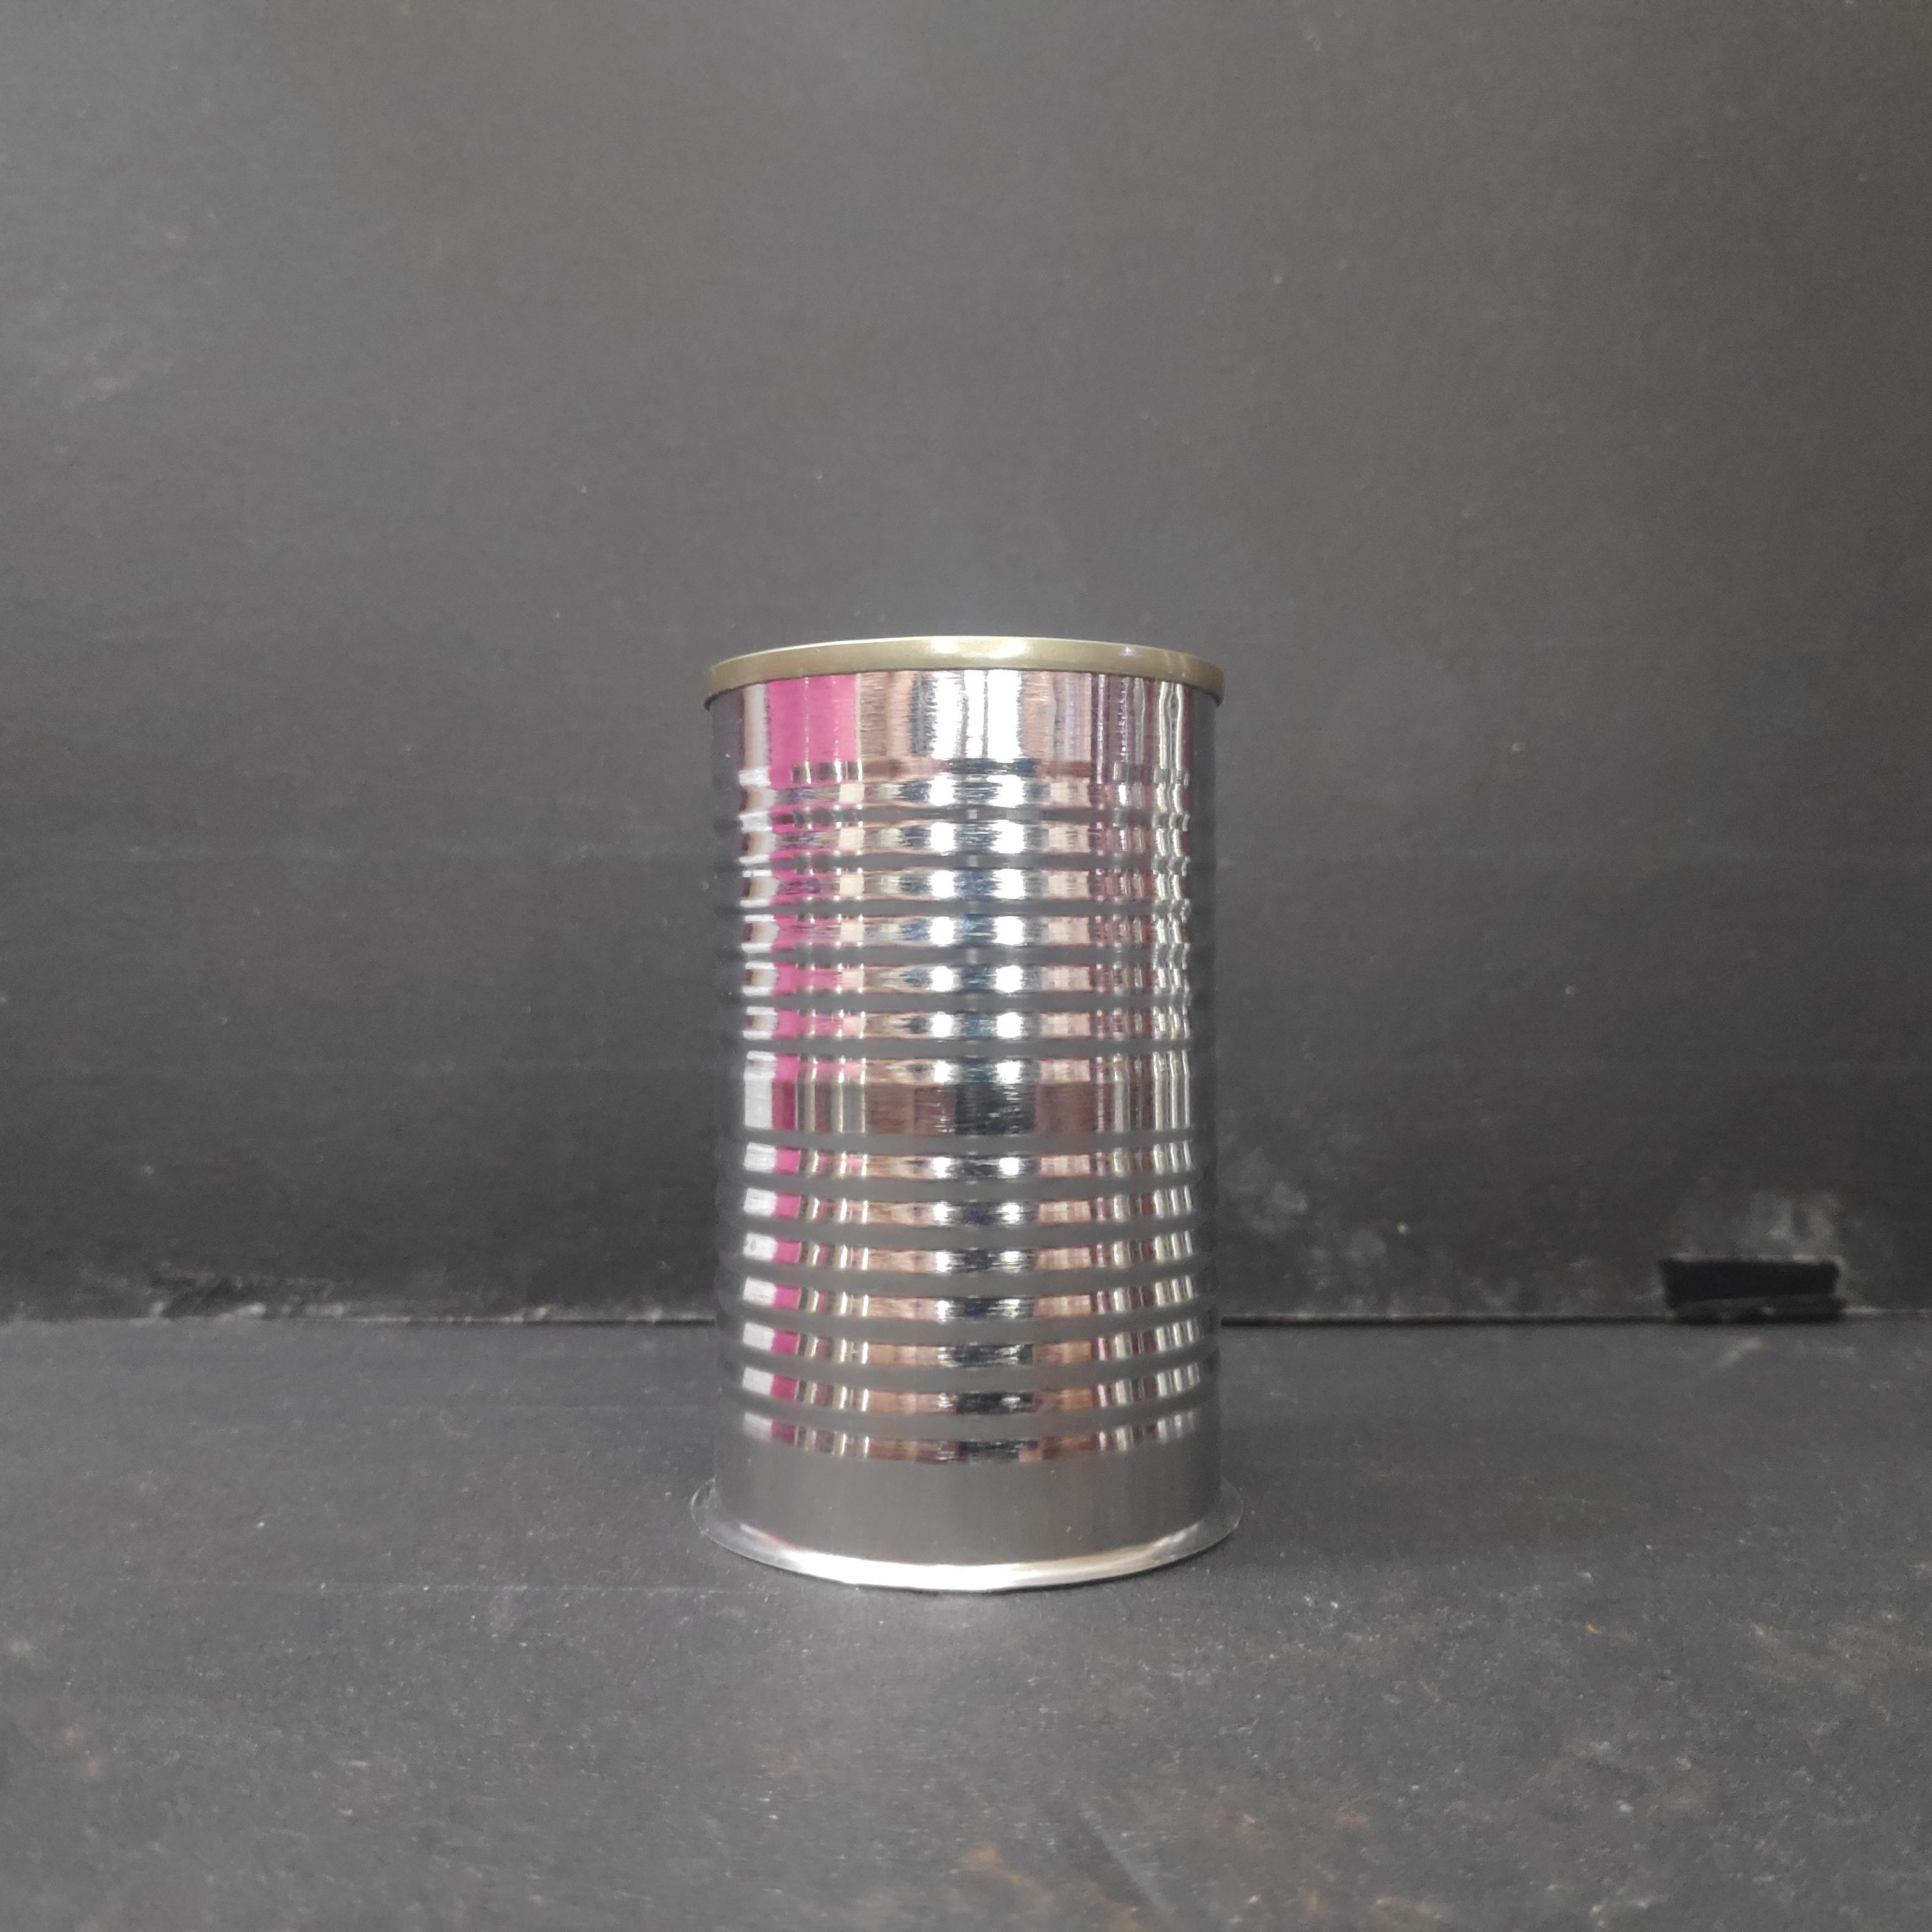No defect: (694, 627, 1236, 1604)
